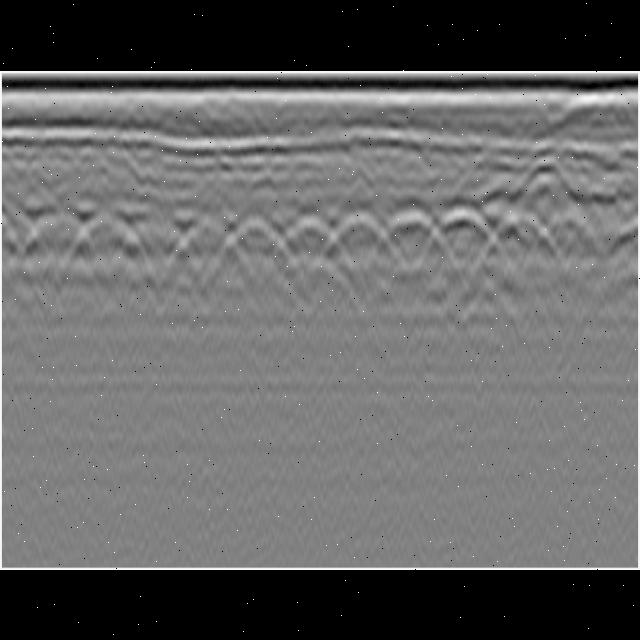hyperbola: (489, 208, 555, 256), (379, 204, 446, 250), (432, 205, 496, 252), (280, 213, 340, 259), (34, 207, 94, 253), (84, 207, 136, 255), (542, 215, 598, 258), (226, 214, 286, 254), (334, 209, 386, 255), (180, 212, 236, 254)
